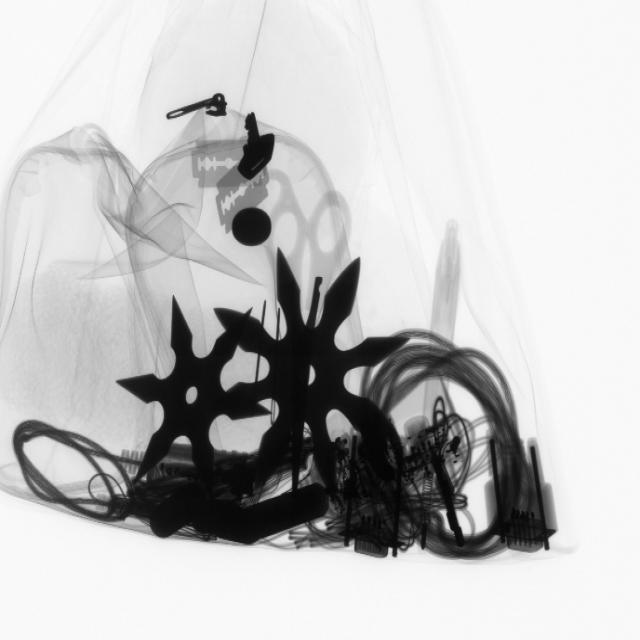BLADE: (190, 135, 250, 193), (215, 162, 270, 225)
SHURIKEN: (219, 252, 407, 497), (120, 293, 265, 491)
